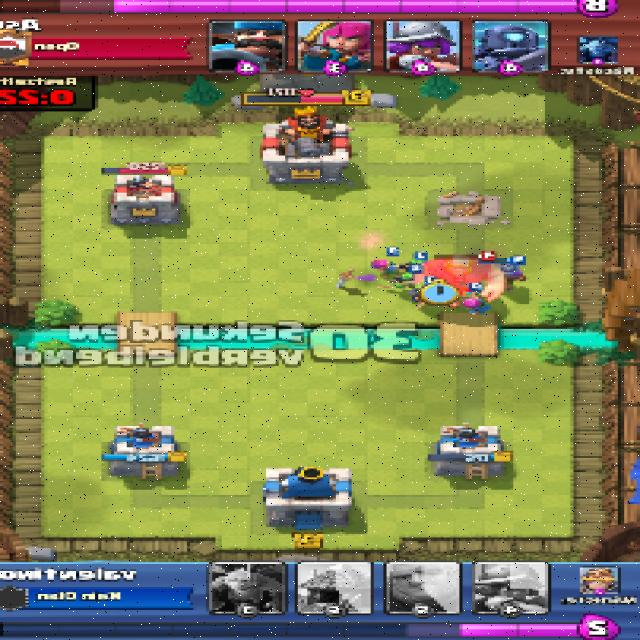Enemy-Giant: (412, 255, 504, 298)
Player-Archer: (462, 298, 492, 316), (372, 256, 399, 276)
Player-Musketeer: (494, 262, 524, 289)
Player-SpearGoblin: (412, 283, 440, 300), (403, 258, 428, 273)
